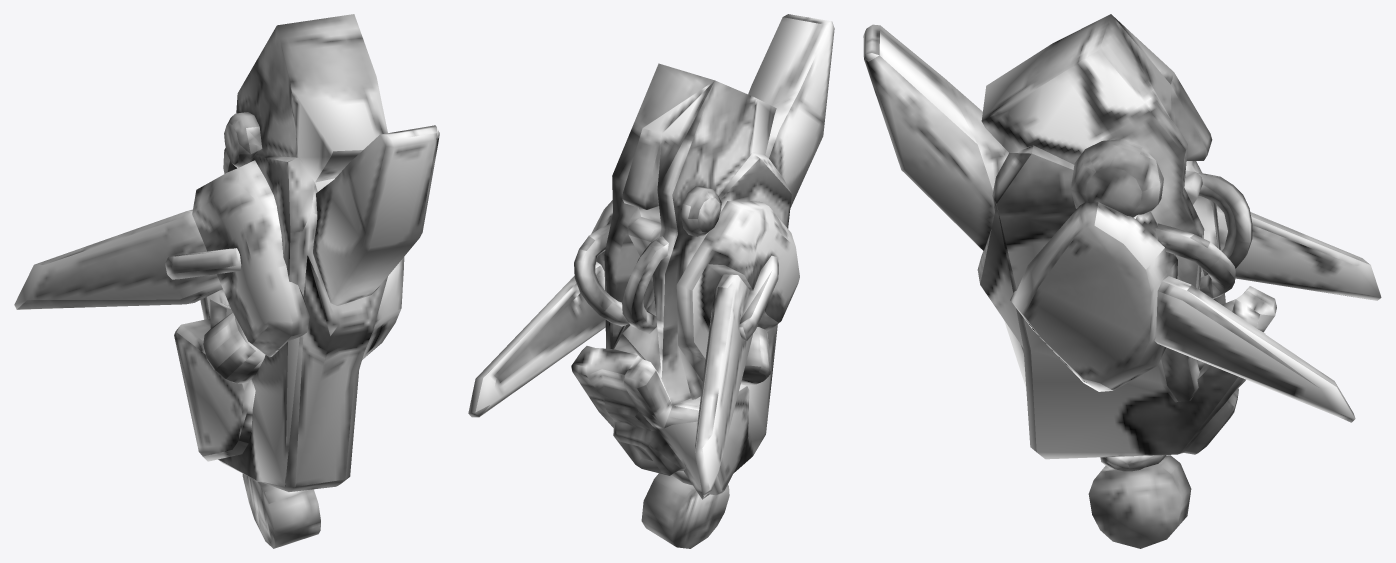
The model's file is r_shin.glb.
3 views of the same model, side by side, from view 1: azimuth 30°, elevation 25°; view 2: azimuth 150°, elevation 25°; view 3: azimuth 270°, elevation 25° (orthographic). The views are drawn at different scales.
Visible parts, largest first — view 1: r_shin; view 2: r_shin; view 3: r_shin.
Boxes of the visible parts, box(x1,y1,x2,y2) form: r_shin: box(14, 14, 439, 548); r_shin: box(468, 14, 834, 548); r_shin: box(863, 14, 1381, 548).
Size of the model in its own units: 0.742 by 1.3 by 1.17.
3 materials, 3 textured.
